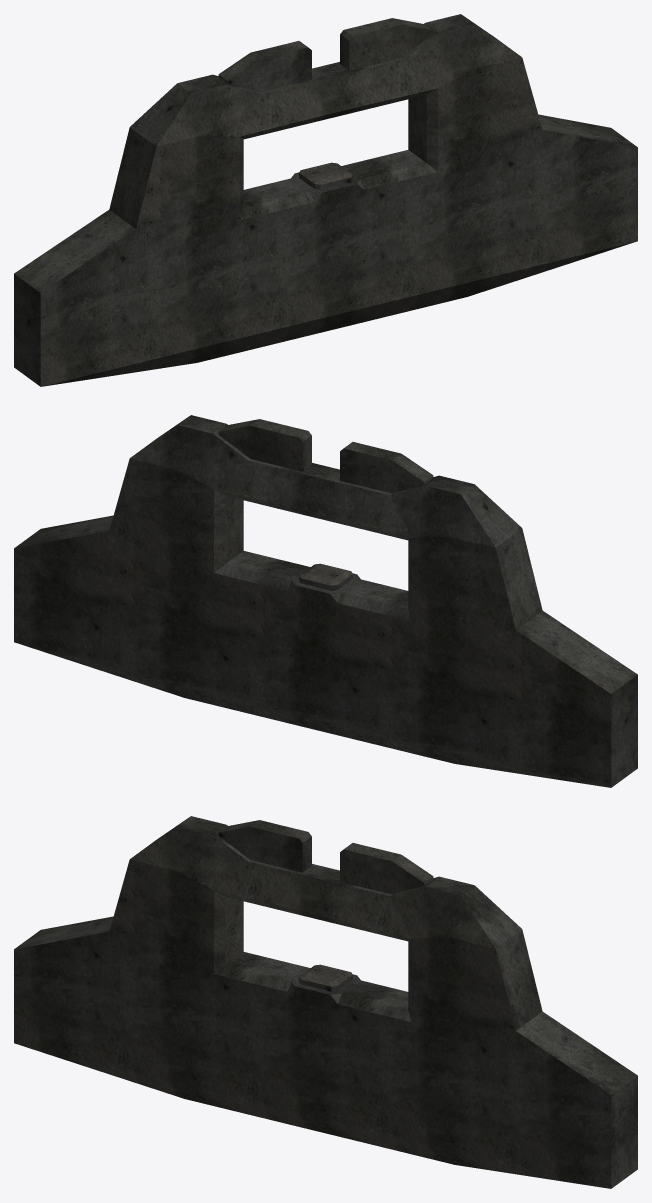
Rendered from barrier_small02.obj.
3 renders of one model, top to bottom at view 1: azimuth 30°, elevation 25°; view 2: azimuth 150°, elevation 25°; view 3: azimuth 330°, elevation 25°, orthographic.
Visible parts, largest first — view 1: Cube; view 2: Cube; view 3: Cube.
Part boxes in pixels (x1,y1,x2,y2): Cube: (14,14,637,386); Cube: (14,415,637,787); Cube: (14,816,637,1188).
Bounding box in the file's own units: 18.15 × 8.32 × 1.41.
Materials: 1 (1 with a texture image).
